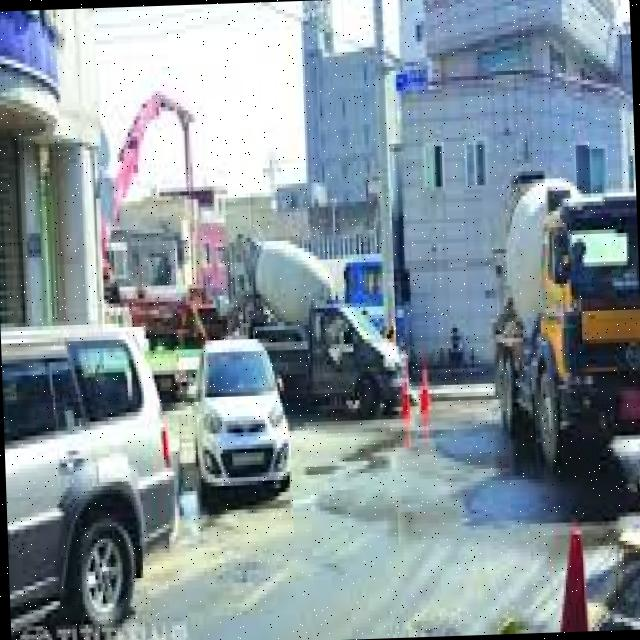Mixer Truck: (484, 163, 640, 480), (242, 225, 404, 364)
